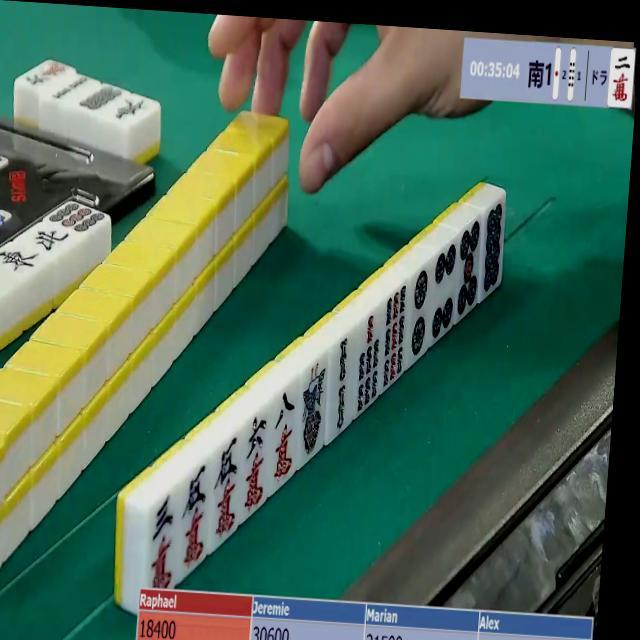m2: (609, 50, 635, 105)
m3: (143, 483, 180, 589)
m5: (176, 457, 215, 578), (209, 429, 245, 543)
m6: (241, 397, 273, 520)
m8: (268, 372, 300, 490)
s1: (296, 346, 329, 464)
s2: (328, 325, 360, 441)
s7: (354, 299, 387, 417)
s9: (380, 276, 411, 397)
t2: (406, 263, 433, 367)
t4: (429, 237, 459, 344)
t5: (454, 217, 485, 324)
t8: (479, 199, 505, 301)
